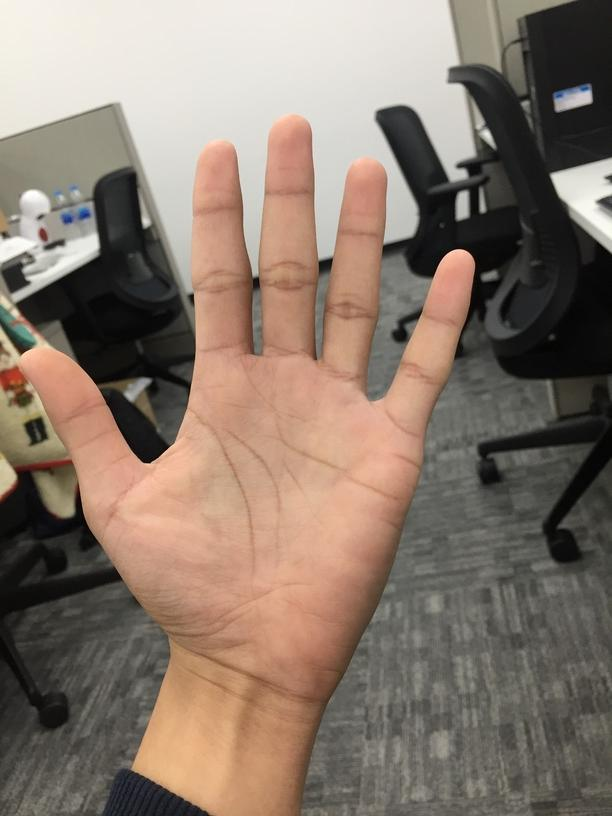hand: (19, 112, 478, 697)
